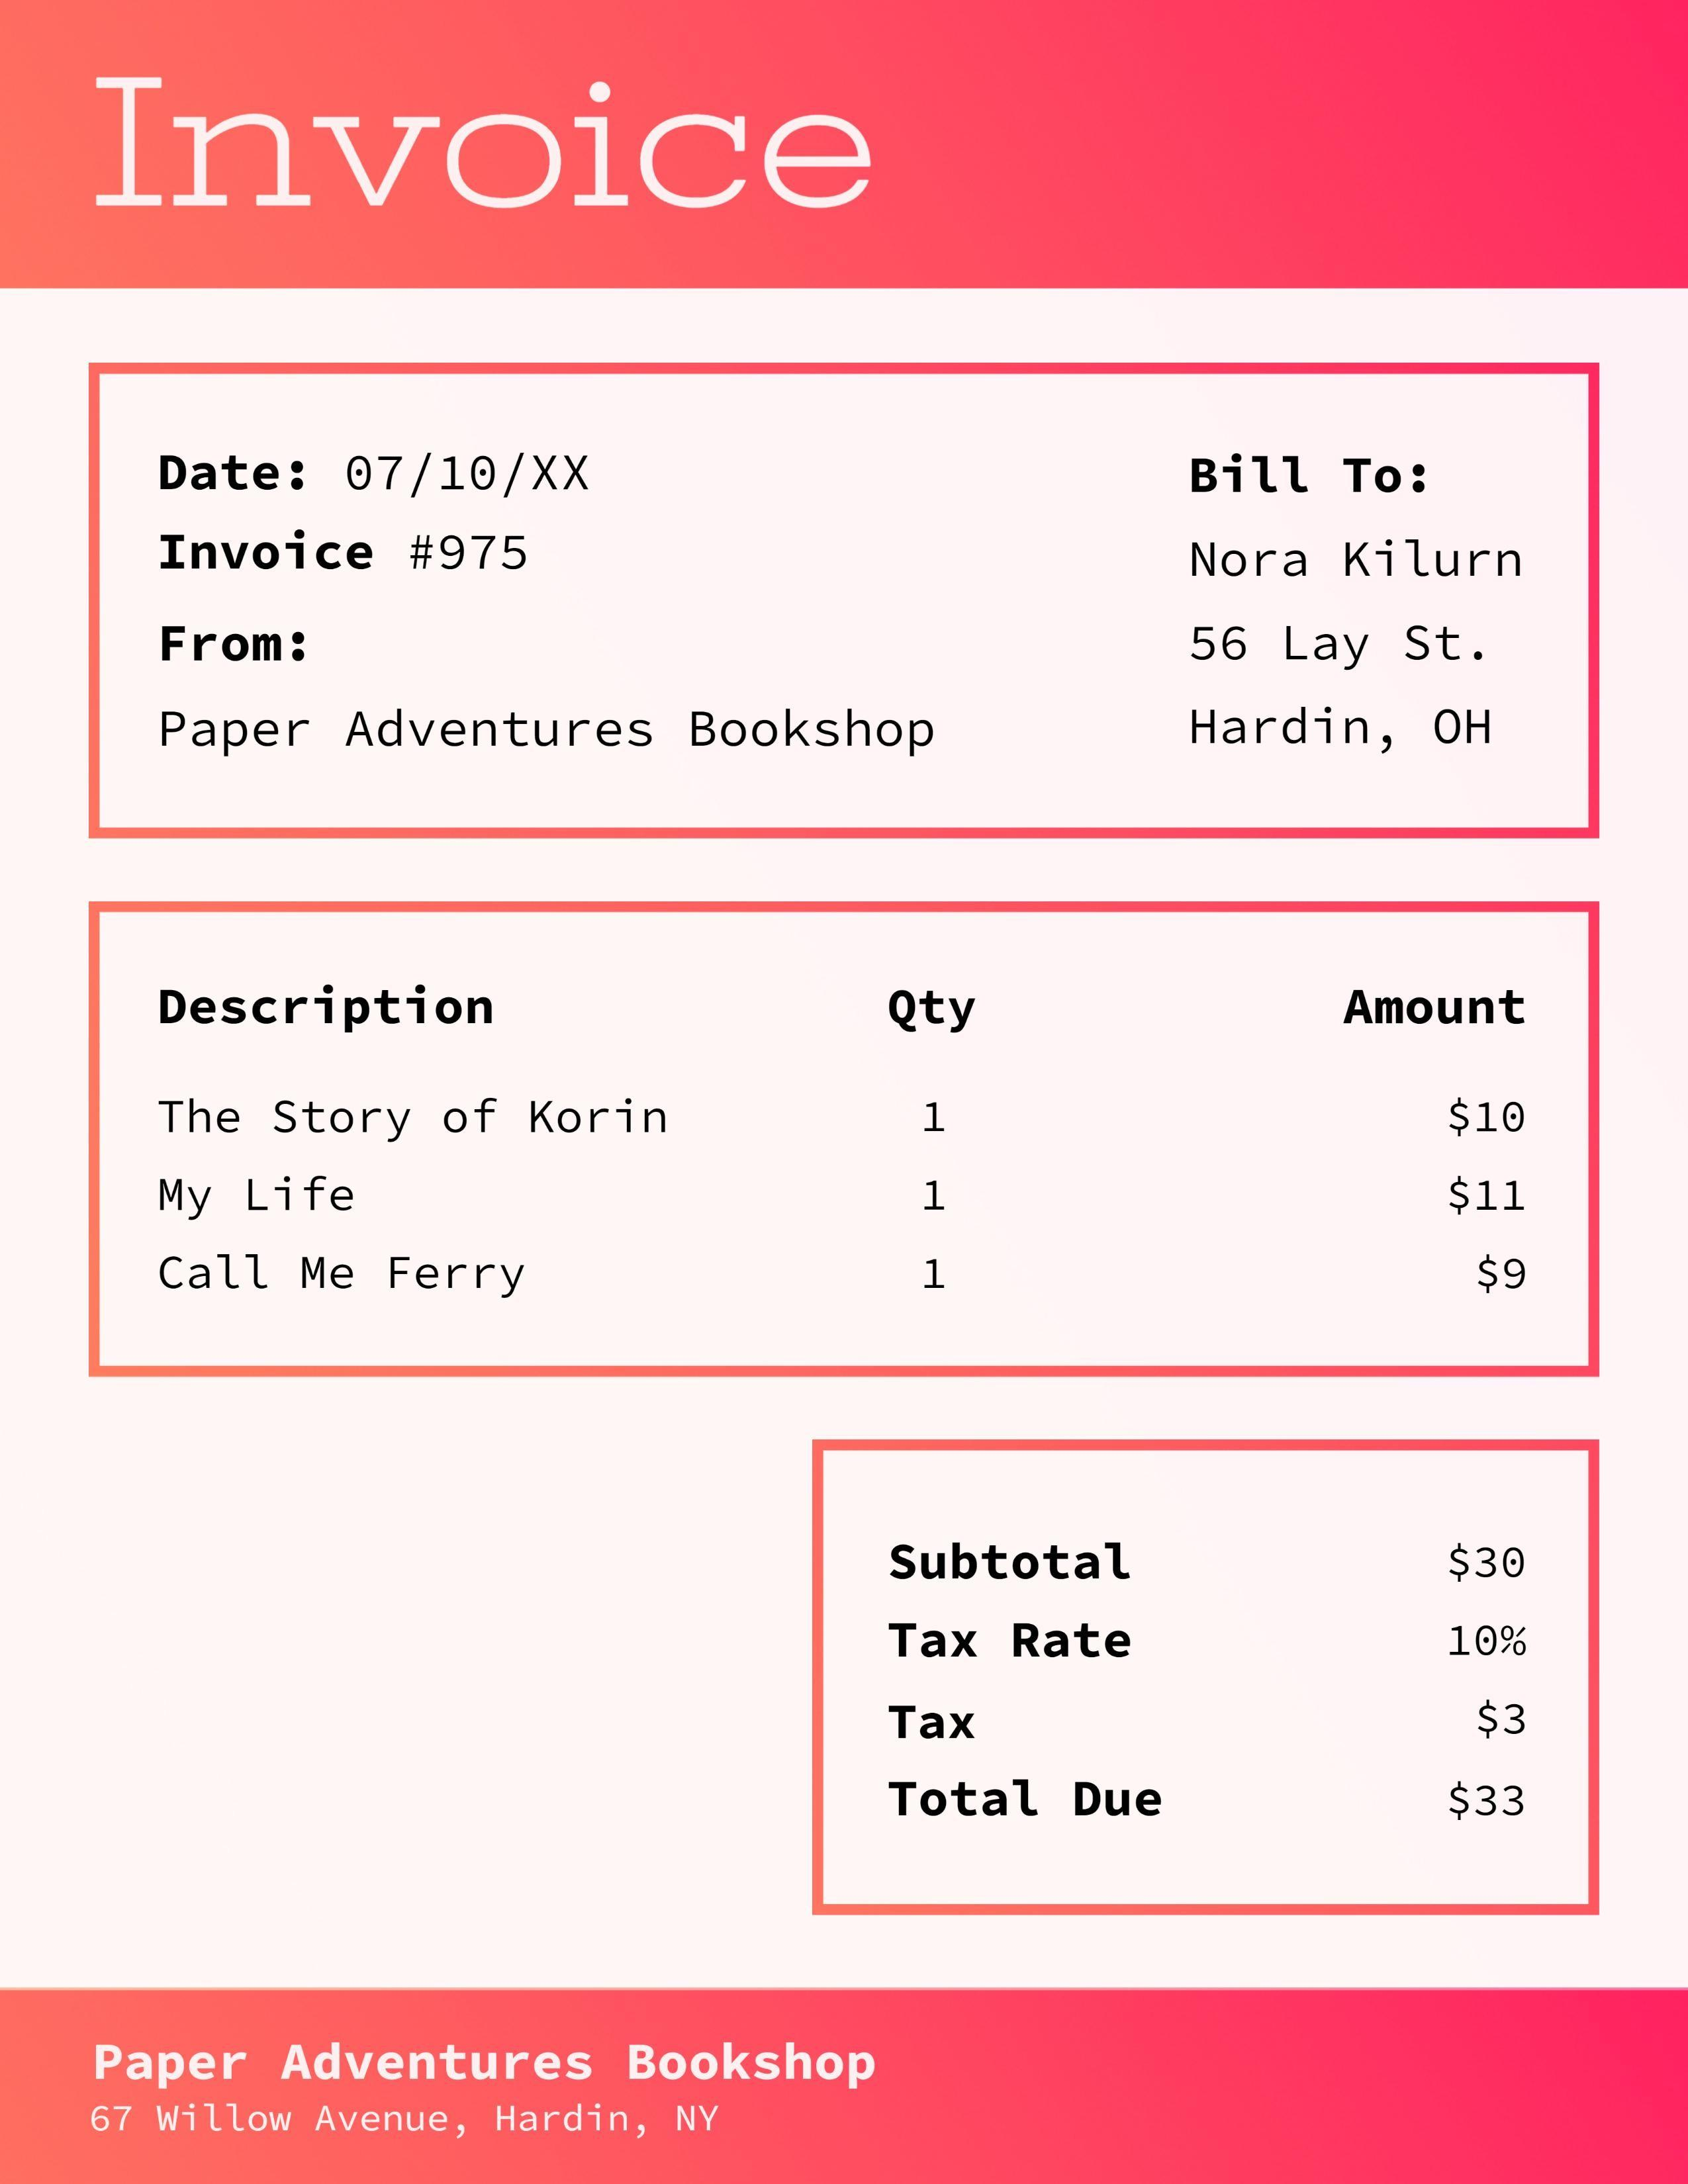ROI: (110, 915, 1577, 1365), (869, 1533, 1537, 1838), (1166, 445, 1556, 790), (28, 2019, 1015, 2150), (138, 438, 786, 605)
